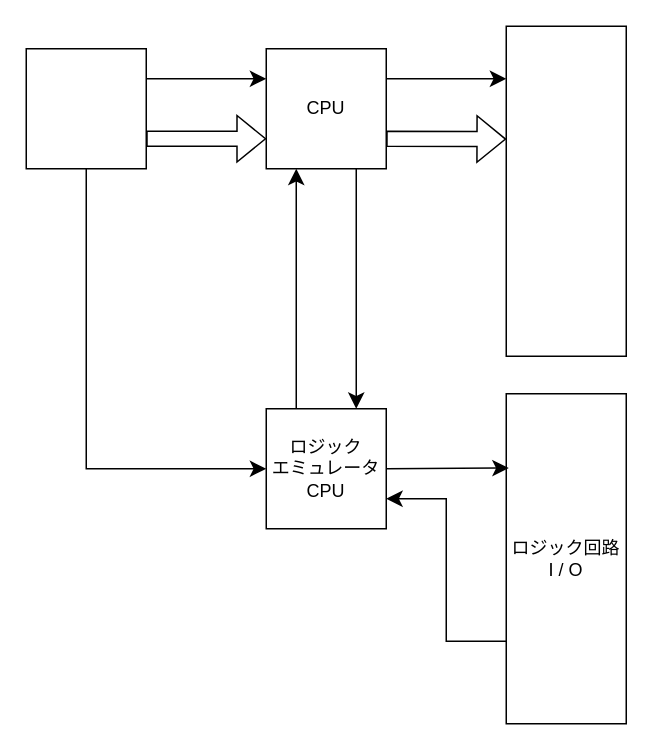
This 653x750 diagram has some shape labels left out. The shapes that lost their labels are listed below. From the top down, each one's centre as x and y in pixels, then its label:
At [85,108]: "電源回路".
At [565,190]: "LCD表示".
